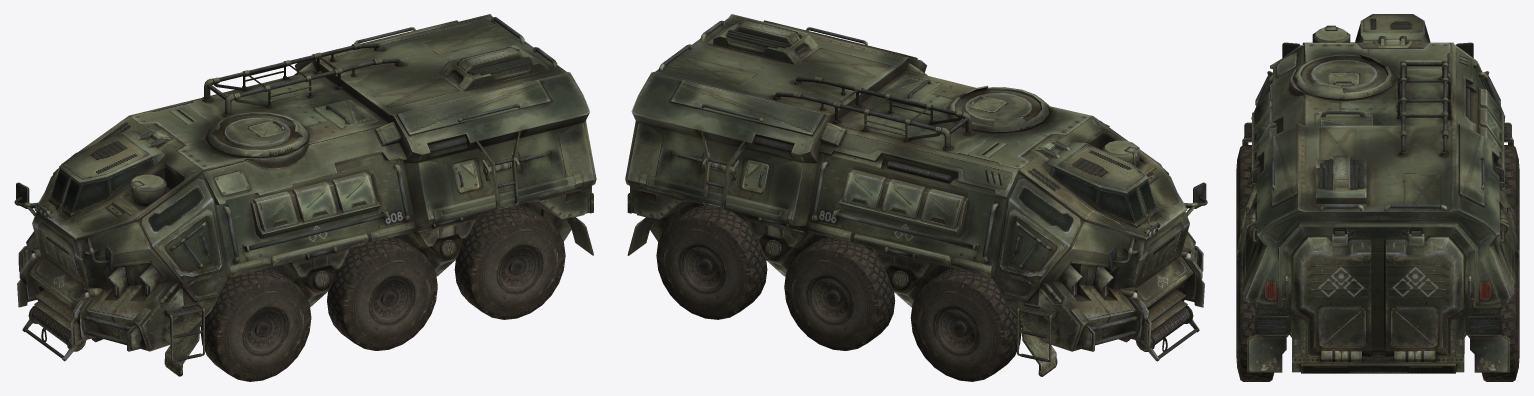
The model's file is truckbtrfear.dae.
The picture shows the model from 3 angles, left to right: view 1: azimuth 30°, elevation 25°; view 2: azimuth 150°, elevation 25°; view 3: azimuth 270°, elevation 25°; orthographic projection.
Parts seen in each view (by area): view 1: BTR; view 2: BTR; view 3: BTR.
Part boxes in pixels (x1=…): BTR: x1=14, y1=14, x2=596, y2=381; BTR: x1=625, y1=14, x2=1207, y2=381; BTR: x1=1236, y1=14, x2=1519, y2=381.
Size of the model in its own units: 276 by 137 by 117.
Materials: 1 (1 with a texture image).
